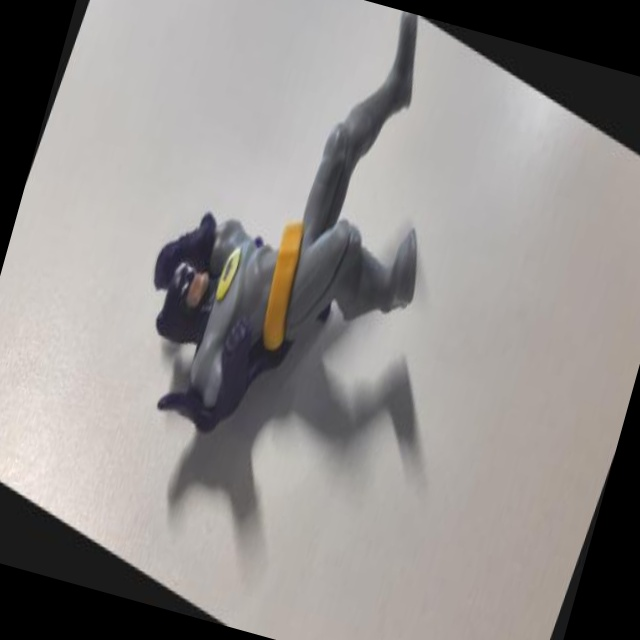Batman: (73, 0, 500, 577)
